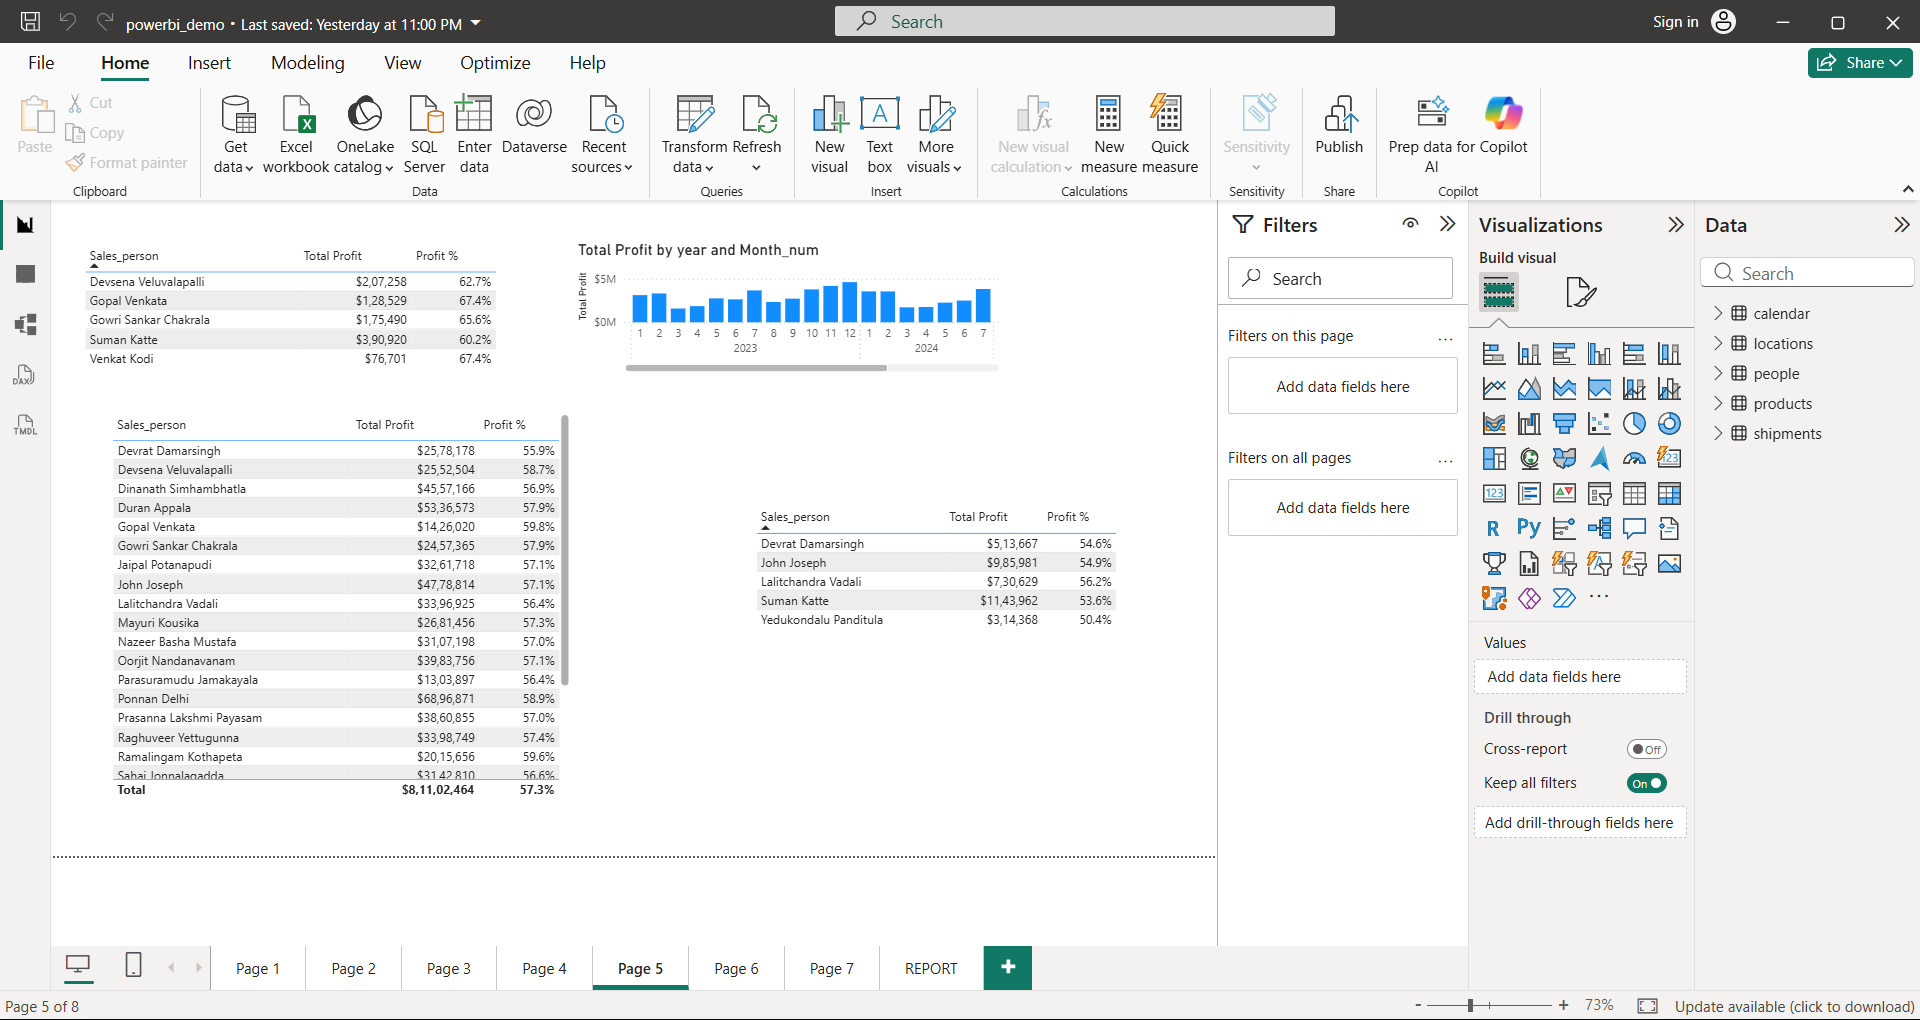

The dashboard page shown, as its layout file describes it:
{"tool":"powerbi","page":{"name":"Page 5","canvas":[1280,720],"ordinal":4},"visuals":[{"type":"tableEx","fields":{"Values":["people.Sales_person","shipments.Total Profit","shipments.Profit %"]},"box":[31.6,45.3,473.4,148.2],"z":0},{"type":"clusteredColumnChart","fields":{"Y":["shipments.Total Profit"],"Category":["calendar.year","calendar.Month_num"]},"box":[573.6,43.9,472,149.6],"z":1000},{"type":"tableEx","fields":{"Values":["people.Sales_person","shipments.Total Profit","shipments.Profit %"]},"box":[61.7,230.5,511.8,430.9],"z":2000},{"type":"tableEx","fields":{"Values":["people.Sales_person","shipments.Total Profit","shipments.Profit %"]},"box":[768.4,332.1,415.8,171.5],"z":3000}]}

Visuals, with their boxes on the page's 1280x720 design canvas (x1, y1, x2, y2). These are canvas units, not pixel positions in the 1920x1020 screenshot, which may show the page scaled, cropped or inside an application window:
tableEx - people.Sales_person x shipments.Total Profit: 32,45,505,194
clusteredColumnChart - shipments.Total Profit x calendar.year: 574,44,1046,194
tableEx - people.Sales_person x shipments.Total Profit: 62,230,574,661
tableEx - people.Sales_person x shipments.Total Profit: 768,332,1184,504
